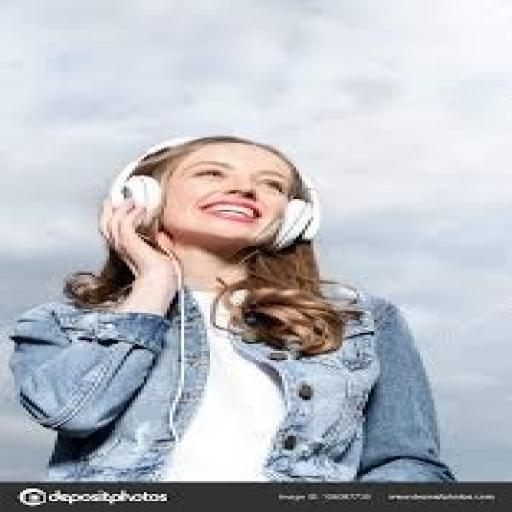listening_to_music: (6, 132, 460, 483)
